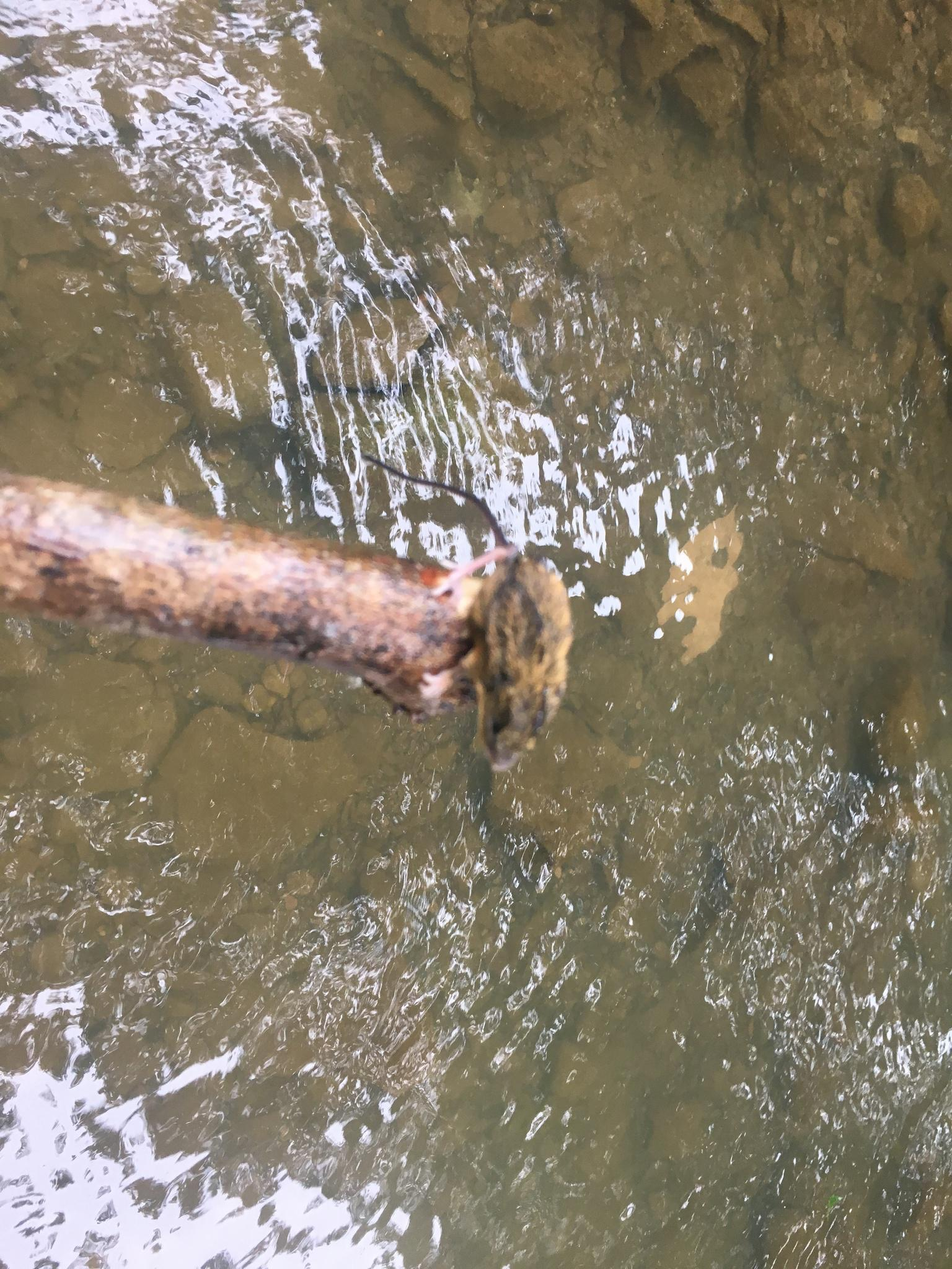rat: (357, 452, 571, 771)
